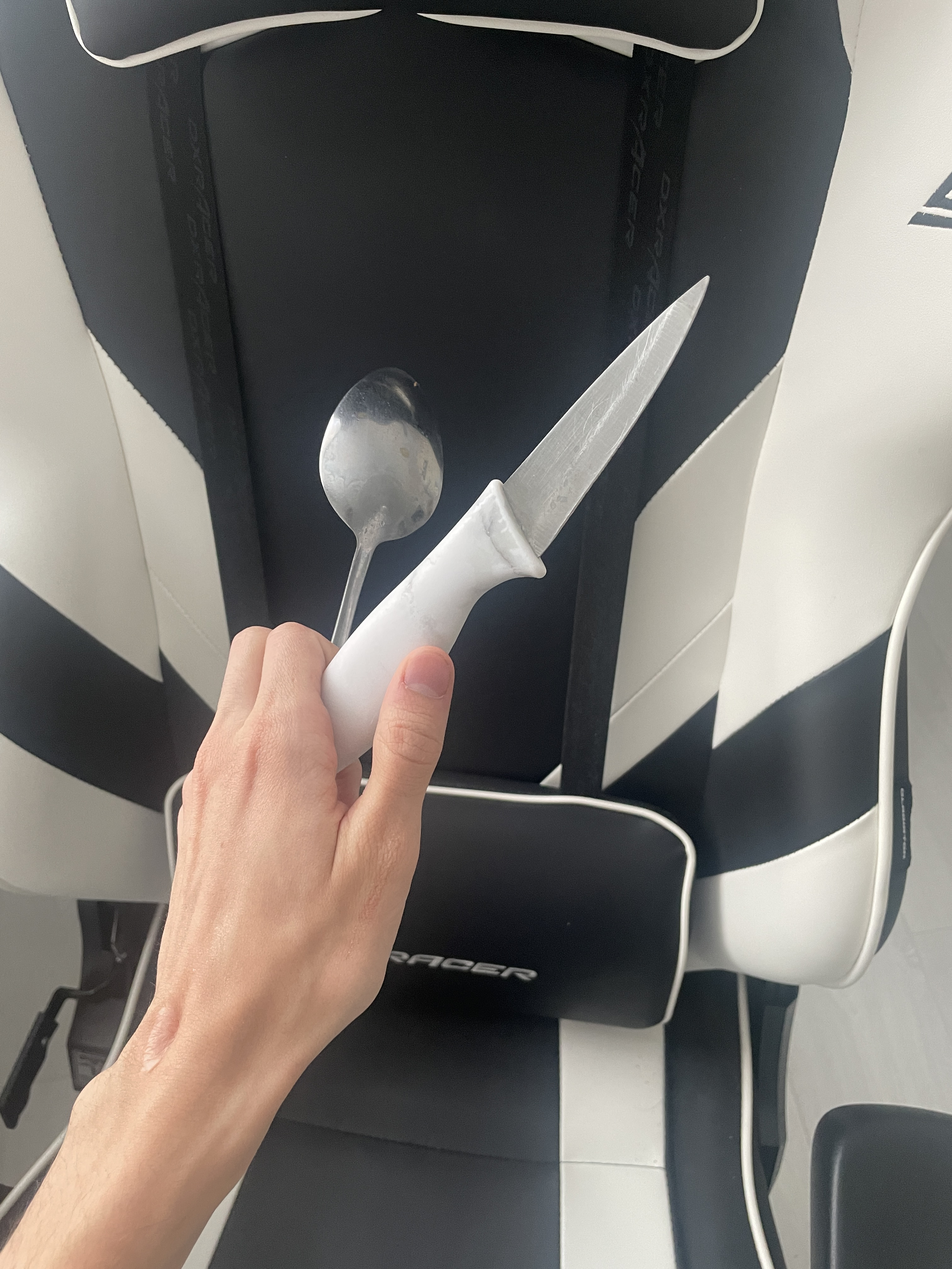knife: (322, 277, 709, 769)
spoon: (320, 368, 443, 647)
